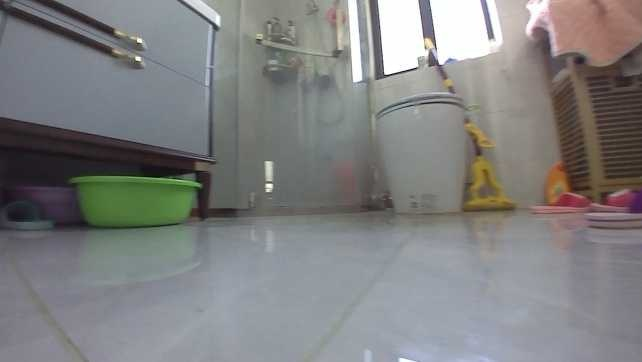bottle: (540, 157, 573, 203)
slipper: (583, 186, 641, 225), (0, 195, 55, 226), (527, 187, 590, 213)
toilet: (372, 90, 475, 214)
washstand: (0, 0, 222, 227)
